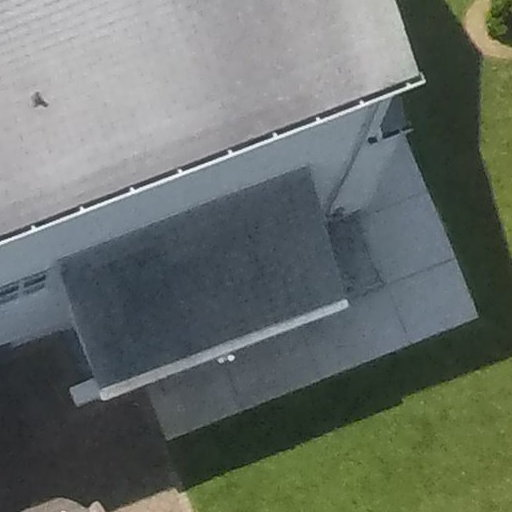awning: (32, 137, 363, 406)
